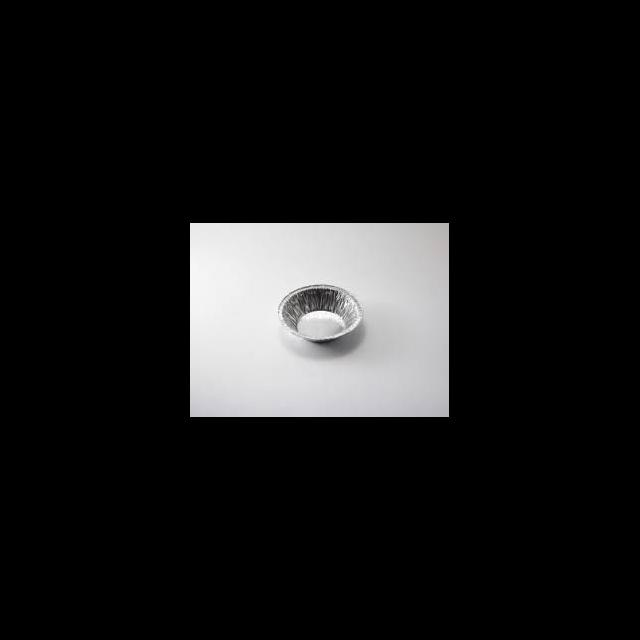metal: (278, 284, 362, 342)
